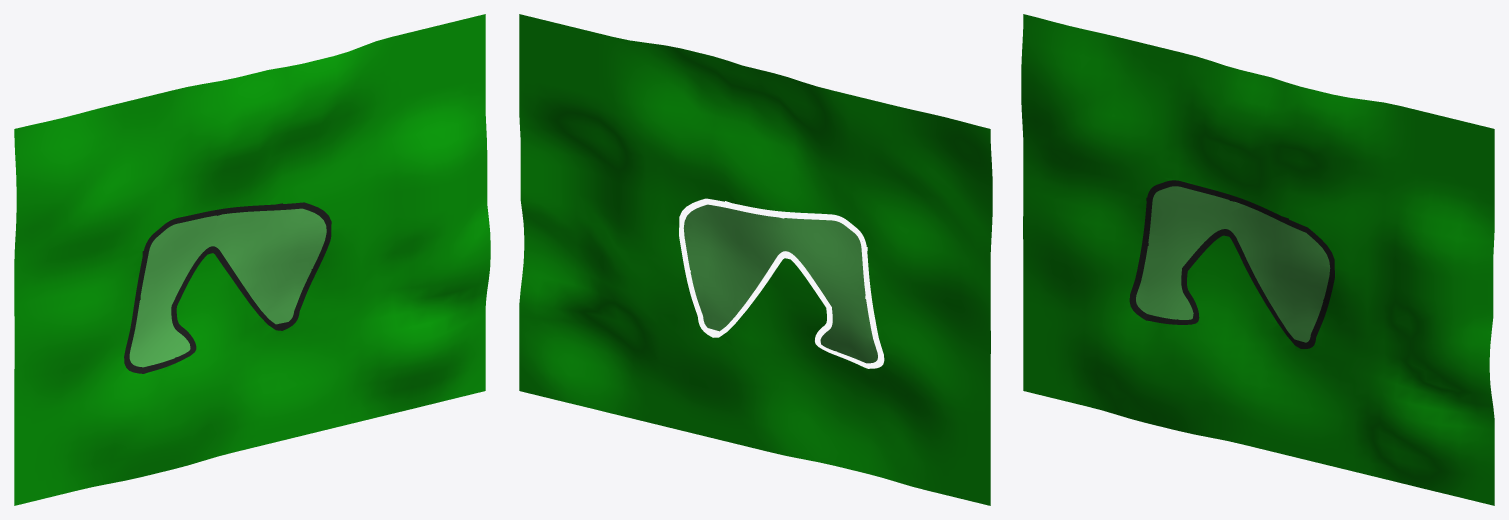
The model's file is race track fin.fbx.
3 renders of one model, left to right at view 1: azimuth 30°, elevation 25°; view 2: azimuth 150°, elevation 25°; view 3: azimuth 330°, elevation 25°, orthographic.
Parts seen in each view (by area): view 1: Plane01 (×3); view 2: Plane01 (×2); view 3: Plane01 (×3).
Part boxes in pixels (box(x1,y1,x2,y2)): Plane01 (×3): box(14, 14, 490, 505); Plane01 (×2): box(519, 14, 992, 505); Plane01 (×3): box(1021, 14, 1494, 505).
Bounding box in the file's own units: 843 × 644 × 46.7.
